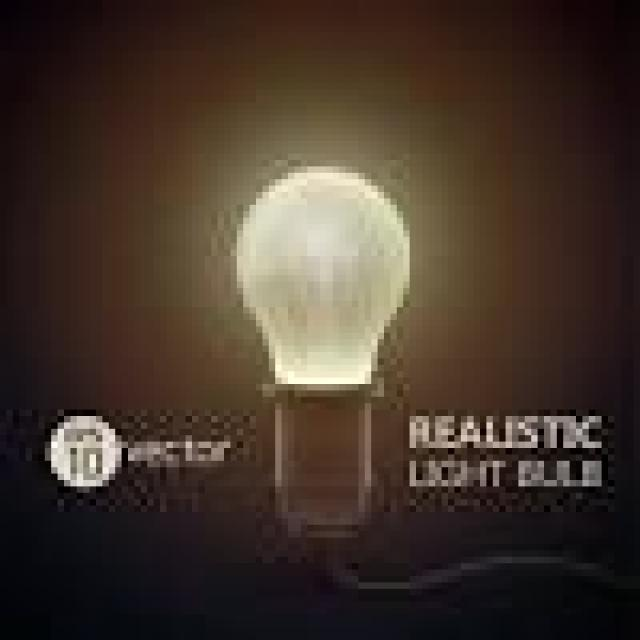bulb_on: (232, 167, 414, 543)
